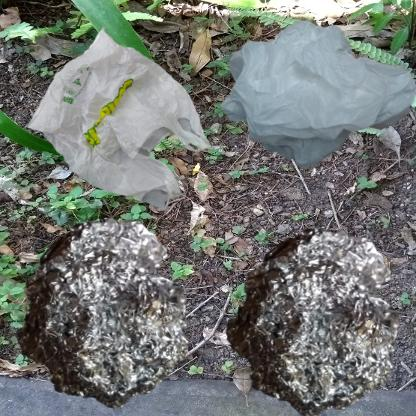aluminio: (213, 213, 416, 416), (10, 213, 193, 416)
bolsa: (10, 10, 229, 239), (213, 10, 416, 189)
